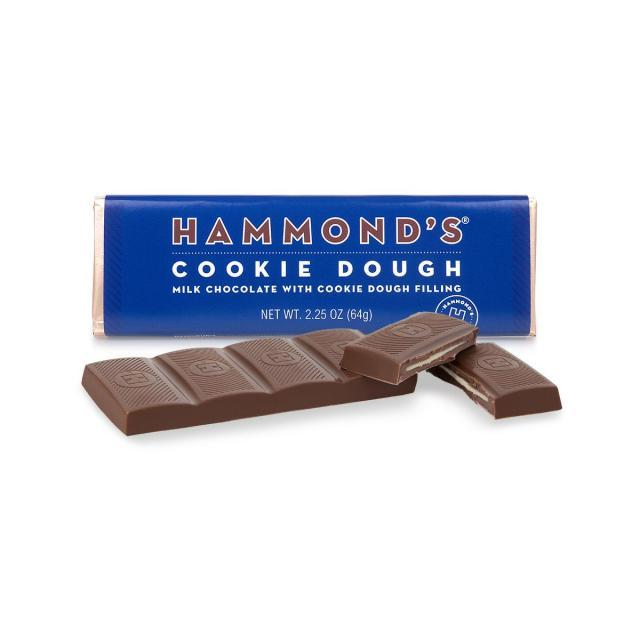Chocolate bar: (92, 194, 538, 340)
Chocolate bar packaged: (79, 326, 421, 436), (425, 340, 565, 420), (344, 311, 479, 383)
